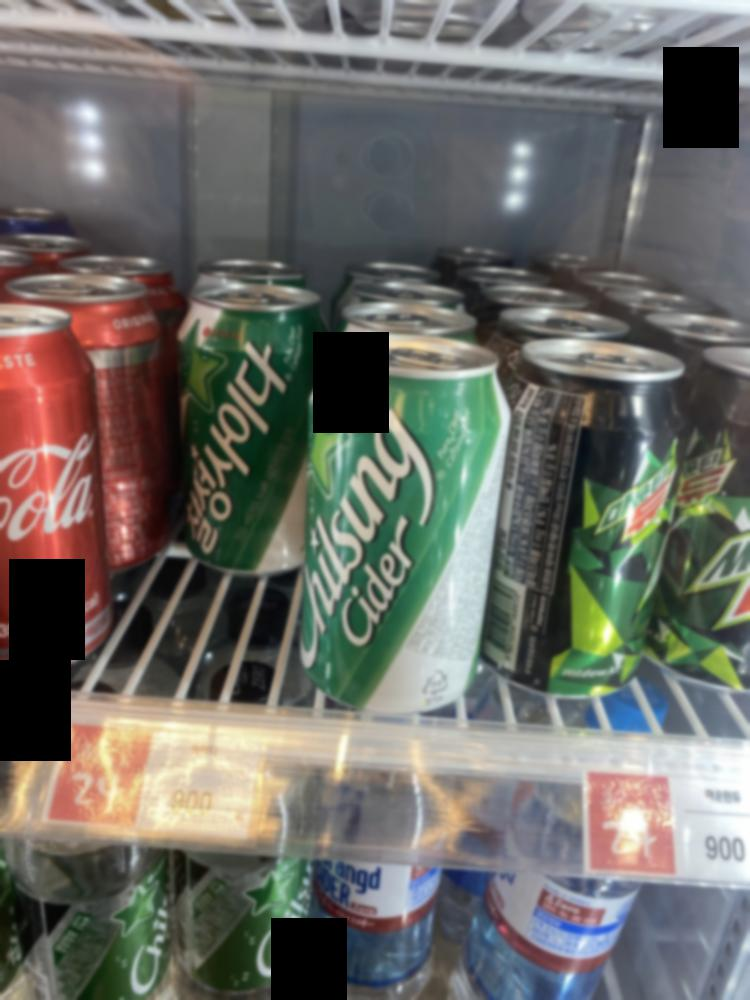chilsungcider: (181, 293, 290, 582)
